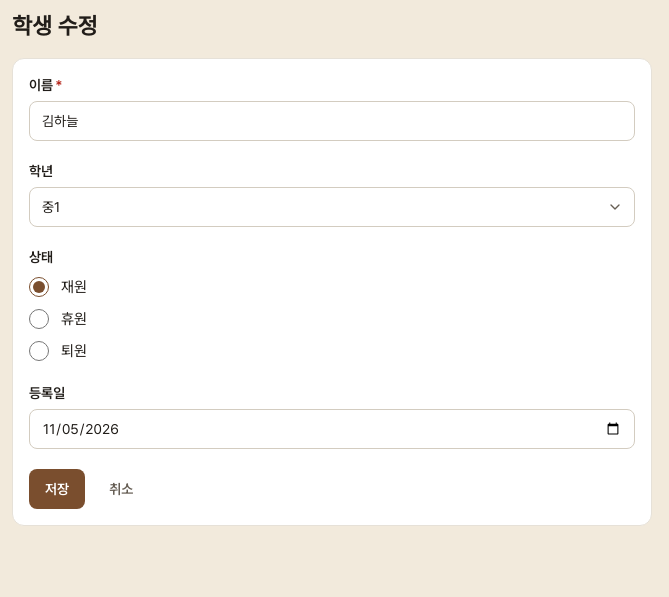
StudentEditScreen › shows the not-applied message
The width and height of the screenshot is (669, 597).
What coordinates should you click on to do the following:
click the button "저장"
I would click on:
 (57, 489)
Its box is [29, 469, 85, 509].
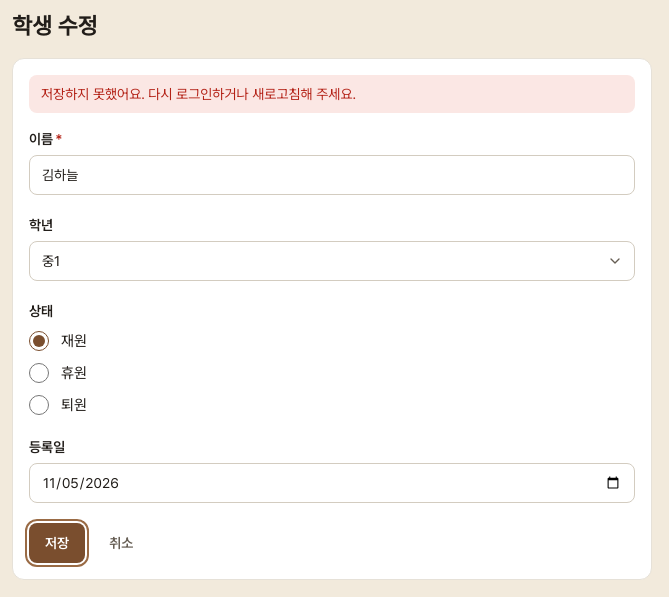
Result: the message reads "저장하지 못했어요. 다시 로그인하거나 새로고침해 주세요." at [41, 86, 356, 102]
